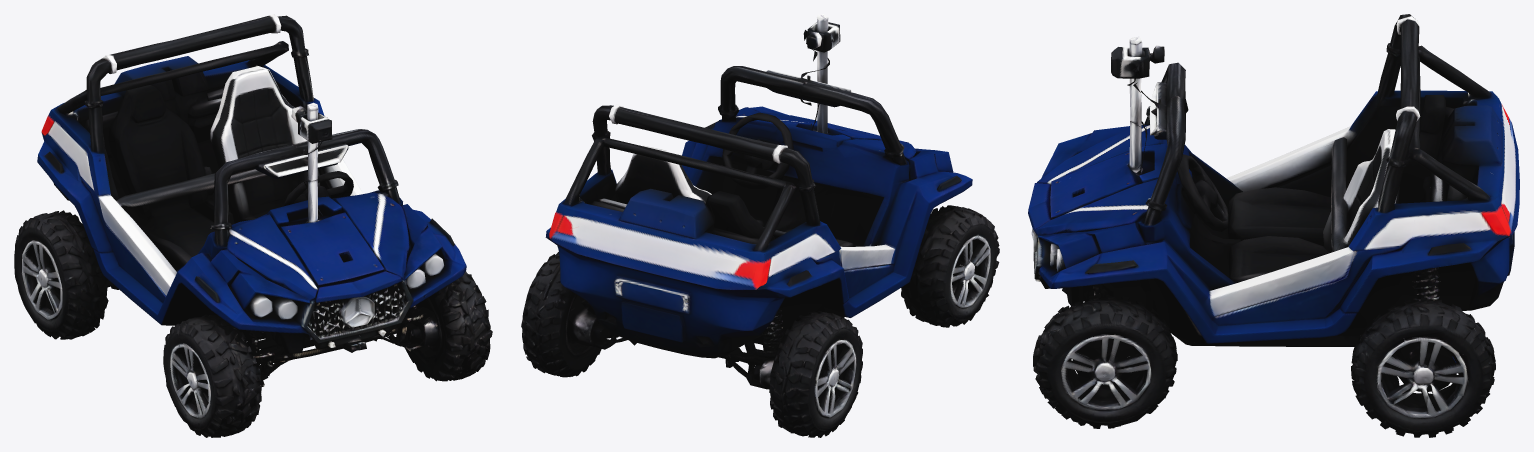
File: base_basic_shaded.glb
The picture shows the model from 3 angles, left to right: view 1: azimuth 30°, elevation 25°; view 2: azimuth 150°, elevation 25°; view 3: azimuth 270°, elevation 25°; orthographic projection. The views are drawn at different scales.
Parts seen in each view (by area): view 1: model; view 2: model; view 3: model.
Part boxes in pixels (x1,y1,x2,y2): model: (14, 14, 492, 437); model: (521, 14, 999, 437); model: (1028, 14, 1519, 437).
Bounding box in the file's own units: 1.44 × 1.39 × 1.9.
1 material, 1 textured.
